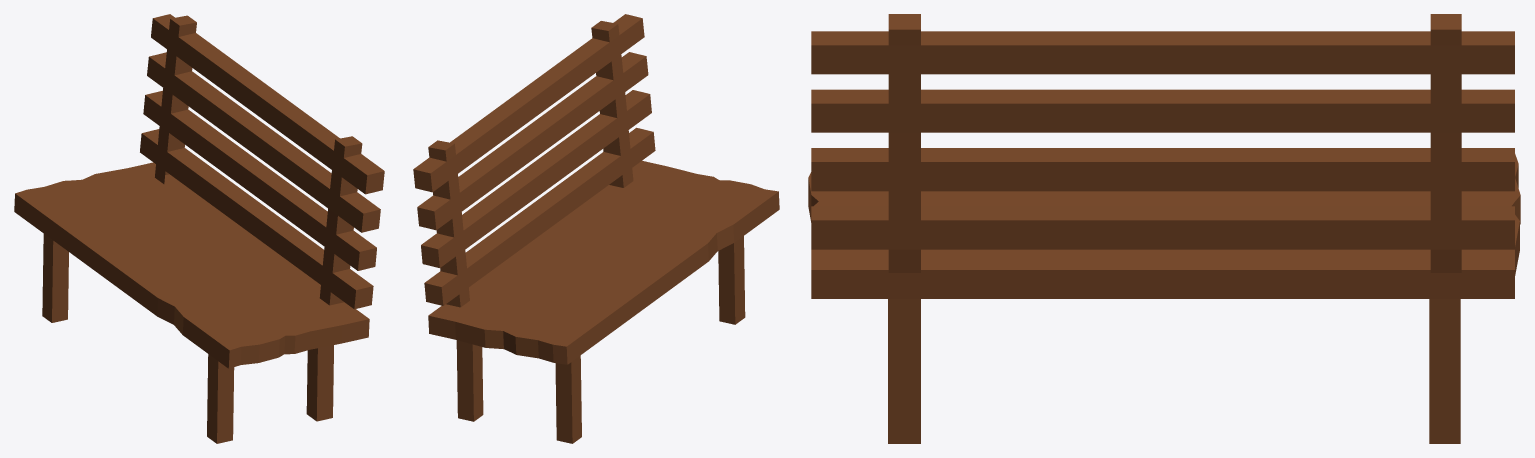
Rendered from Bank.fbx.
3 renders of one model, left to right at view 1: azimuth 30°, elevation 25°; view 2: azimuth 150°, elevation 25°; view 3: azimuth 270°, elevation 25°, orthographic. The views are drawn at different scales.
Visible parts, largest first — view 1: bank; view 2: bank; view 3: bank.
Boxes of the visible parts, <box> form: bank: <box>14,14,384,443</box>; bank: <box>413,14,779,443</box>; bank: <box>808,14,1520,443</box>.
Size of the model in its own units: 96.94 by 158 by 232.
